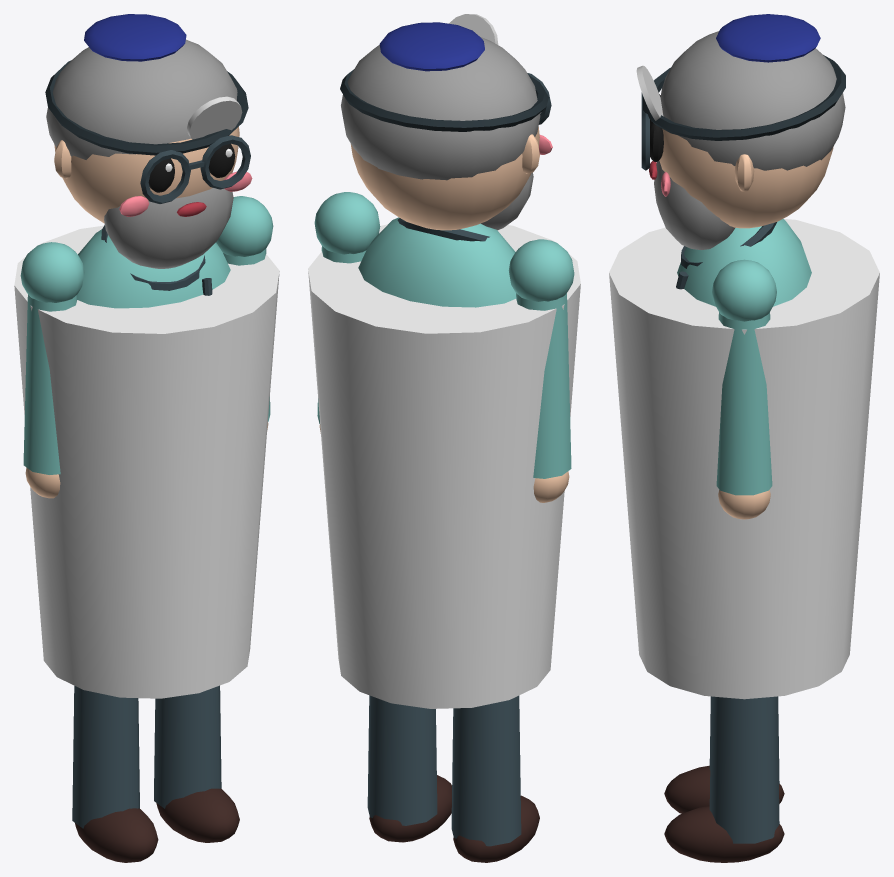
The model's file is cameos_doctor.glb.
3 views of the same model, side by side, from view 1: azimuth 30°, elevation 25°; view 2: azimuth 150°, elevation 25°; view 3: azimuth 270°, elevation 25° (orthographic). The views are drawn at different scales.
Parts seen in each view (by area): view 1: Body.015, Leg_R.015, Leg_L.015, Arm_R.015, CameosDoctorExtra, Arm_L.015; view 2: Body.015, Leg_R.015, Leg_L.015, Arm_R.015, CameosDoctorExtra, Arm_L.015; view 3: Body.015, Leg_L.015, Arm_L.015, CameosDoctorExtra, Leg_R.015.
Boxes of the visible parts, bbox=[...] form: Body.015: bbox=[14, 14, 279, 698]; Leg_R.015: bbox=[72, 685, 158, 862]; Leg_L.015: bbox=[154, 685, 239, 842]; Arm_R.015: bbox=[20, 242, 84, 498]; CameosDoctorExtra: bbox=[45, 60, 248, 295]; Arm_L.015: bbox=[216, 196, 273, 431]; Body.015: bbox=[308, 22, 580, 708]; Leg_R.015: bbox=[451, 695, 539, 862]; Leg_L.015: bbox=[367, 695, 451, 842]; Arm_R.015: bbox=[508, 239, 574, 502]; CameosDoctorExtra: bbox=[340, 14, 548, 241]; Arm_L.015: bbox=[314, 192, 380, 433]; Body.015: bbox=[609, 14, 879, 699]; Leg_L.015: bbox=[664, 696, 784, 862]; Arm_L.015: bbox=[712, 259, 776, 519]; CameosDoctorExtra: bbox=[636, 55, 845, 289]; Leg_R.015: bbox=[664, 696, 784, 813].
Size of the model in its own units: 0.57 by 1.78 by 0.54.
